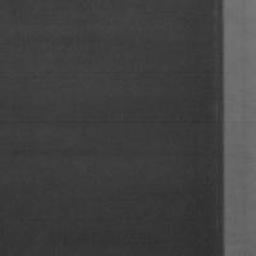Welding line: (220, 0, 227, 256)
